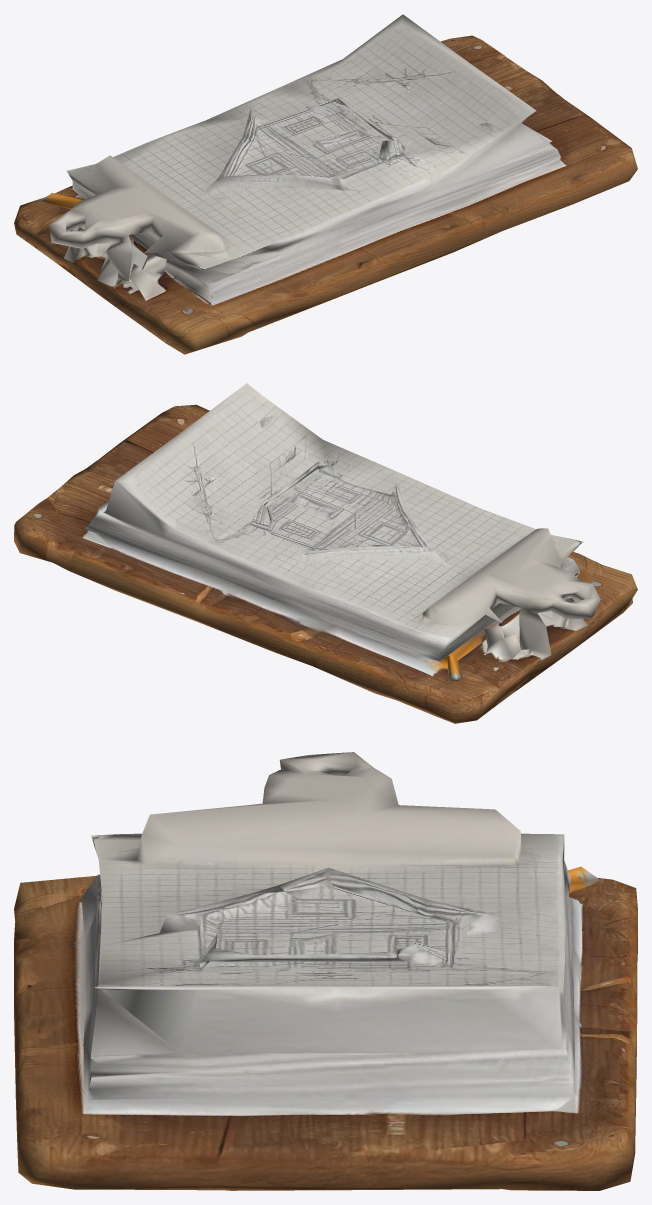
The model's file is building_plan.d64f2e8968.glb.
The picture shows the model from 3 angles, top to bottom: view 1: azimuth 30°, elevation 25°; view 2: azimuth 150°, elevation 25°; view 3: azimuth 270°, elevation 25°; orthographic projection. The views are drawn at different scales.
Visible parts, largest first — view 1: building_plan; view 2: building_plan; view 3: building_plan.
Part boxes in pixels (bbox=[...]): building_plan: bbox=[14, 14, 637, 354]; building_plan: bbox=[14, 383, 637, 723]; building_plan: bbox=[14, 752, 637, 1190].
Size of the model in its own units: 0.35 by 0.0935 by 0.2128.
1 material, 1 textured.
